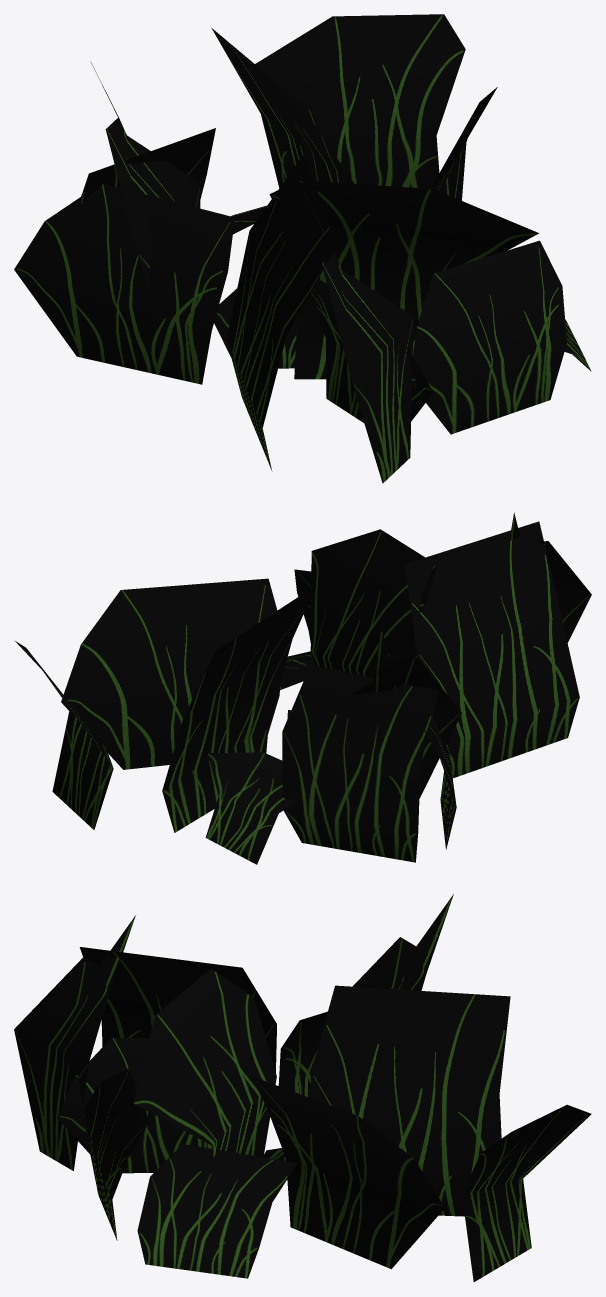
File: SM_Grass_05.fbx
3 renders of one model, top to bottom at view 1: azimuth 30°, elevation 25°; view 2: azimuth 150°, elevation 25°; view 3: azimuth 270°, elevation 25°, orthographic. The views are drawn at different scales.
Parts seen in each view (by area): view 1: SM_Grass_05_LOD0; view 2: SM_Grass_05_LOD0; view 3: SM_Grass_05_LOD0.
Part boxes in pixels (bbox=[...]): SM_Grass_05_LOD0: bbox=[14, 14, 591, 483]; SM_Grass_05_LOD0: bbox=[14, 512, 591, 864]; SM_Grass_05_LOD0: bbox=[14, 894, 591, 1281].
Size of the model in its own units: 76.63 by 93.96 by 43.86.
